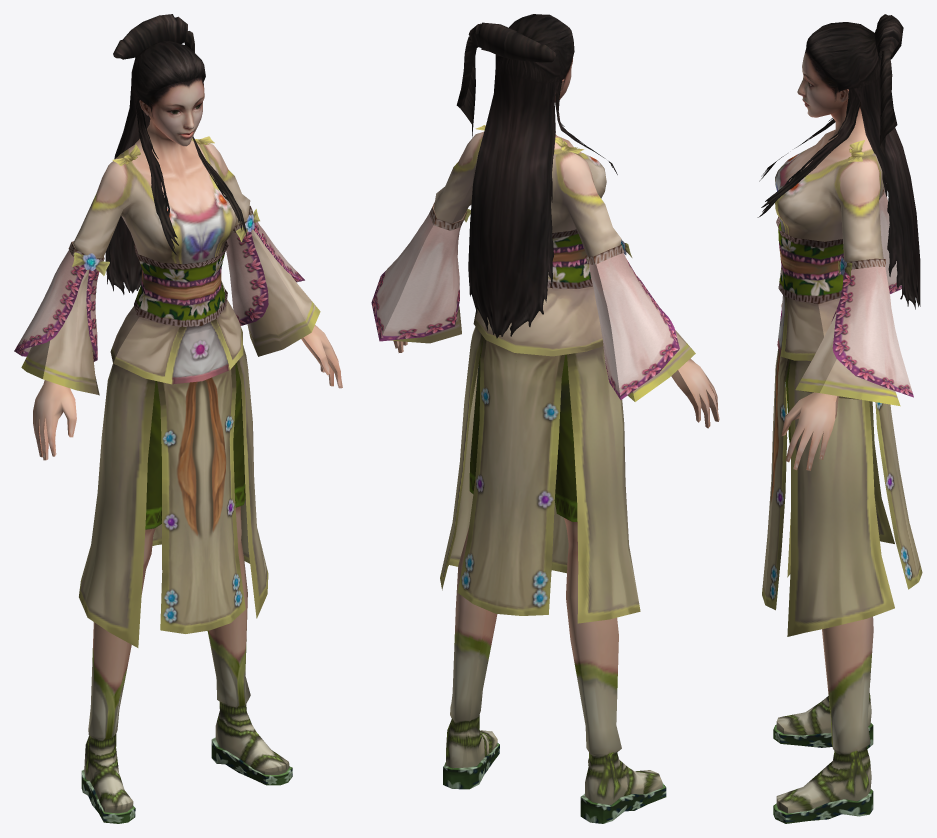
3 renders of one model, left to right at view 1: azimuth 30°, elevation 25°; view 2: azimuth 150°, elevation 25°; view 3: azimuth 270°, elevation 25°, orthographic. The views are drawn at different scales.
Visible parts, largest first — view 1: objMM; view 2: objMM; view 3: objMM.
Part boxes in pixels (<box>): objMM: <box>14,14,342,823</box>; objMM: <box>371,14,719,823</box>; objMM: <box>757,14,922,823</box>.
Size of the model in its own units: 59.22 by 140 by 29.15.
1 material, 1 textured.
